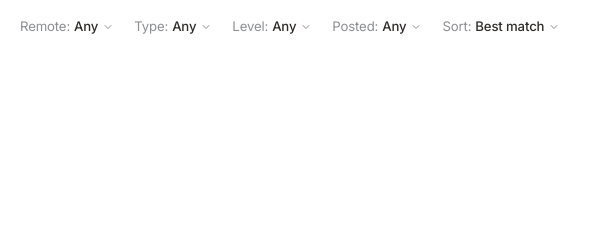
it: JobFilters › should open the menu and update the URL when a filter option is selected
Click the button "Remote: Any" at (67, 27), box [12,12,122,43]
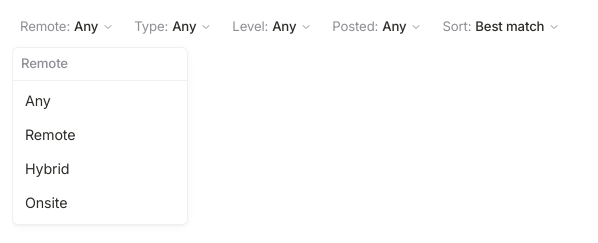
Click the menu item "Remote" at (50, 135), box [25,126,75,143]
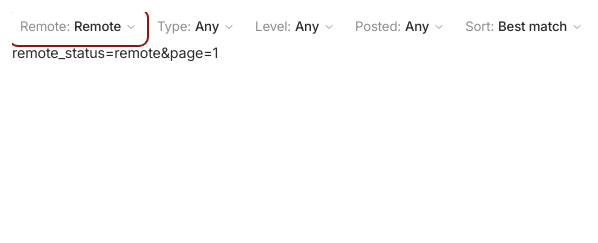
Expected: the text with test id "current-search" shows "remote_status=remote", [12,44,218,61]
